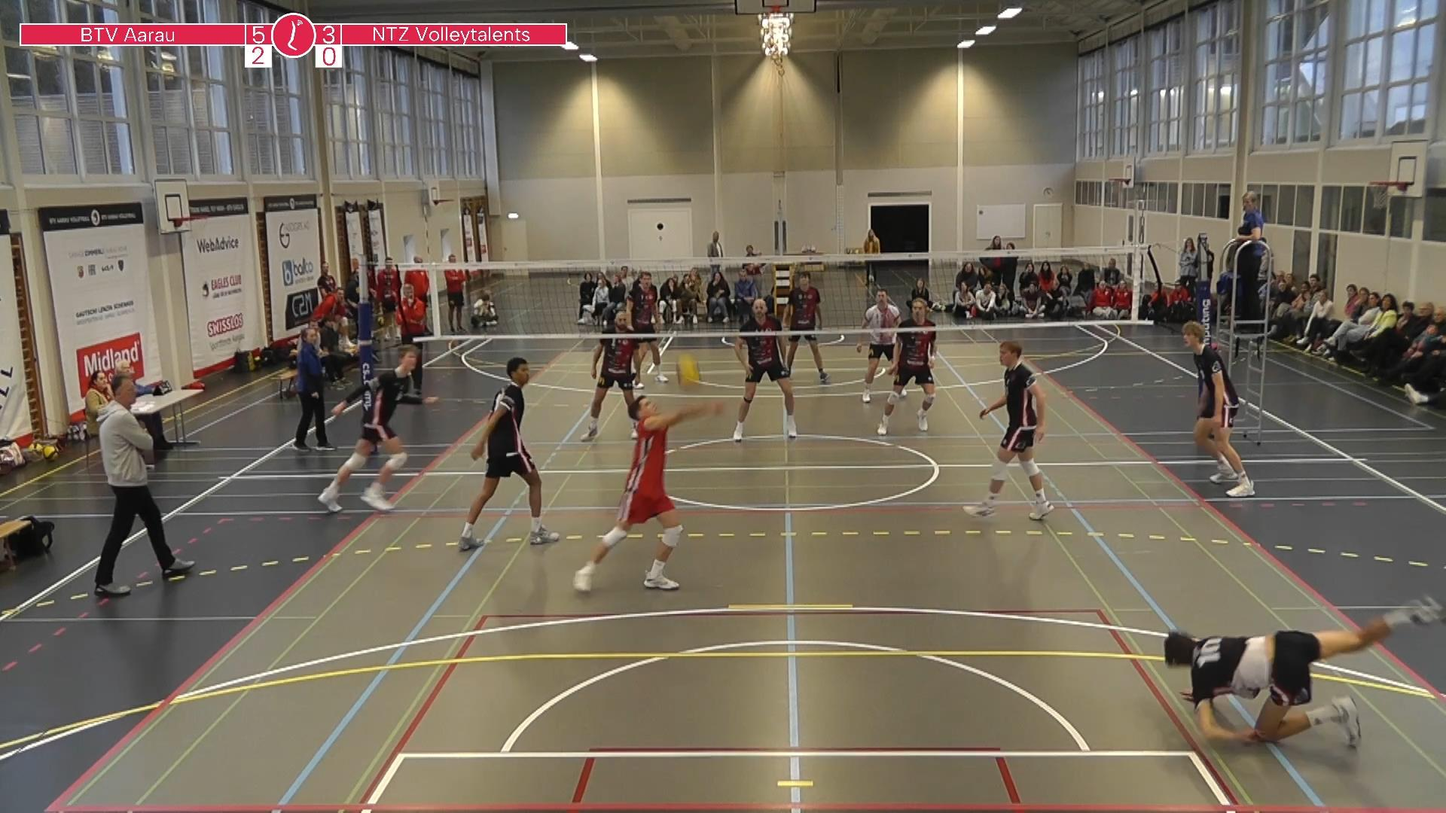difesa: (575, 394, 727, 595)
